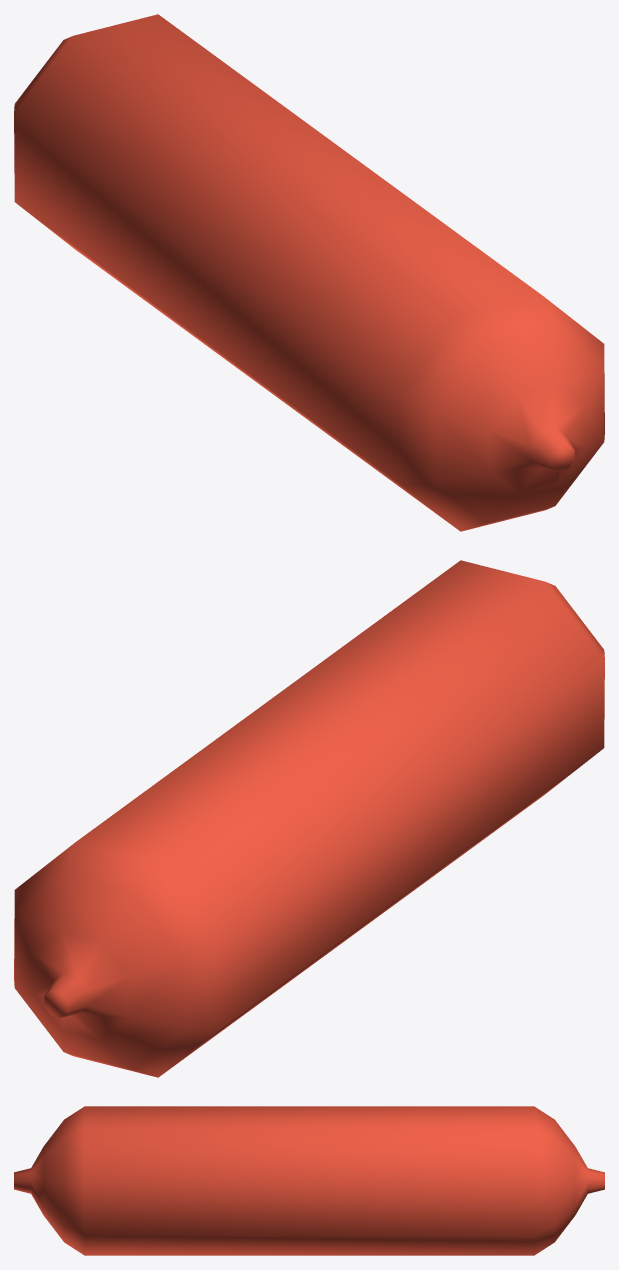
Rendered from sausage.glb.
3 views of the same model, one above another, from view 1: azimuth 30°, elevation 25°; view 2: azimuth 150°, elevation 25°; view 3: azimuth 270°, elevation 25° (orthographic). The views are drawn at different scales.
Visible parts, largest first — view 1: Sausage.001; view 2: Sausage.001; view 3: Sausage.001.
Part boxes in pixels (left/top/right/bottom): Sausage.001: left=14, top=14, right=604, bottom=531; Sausage.001: left=14, top=560, right=604, bottom=1077; Sausage.001: left=14, top=1106, right=604, bottom=1255.
Size of the model in its own units: 0.0927 by 0.0927 by 0.3959.
Materials: 1 (1 with a texture image).
